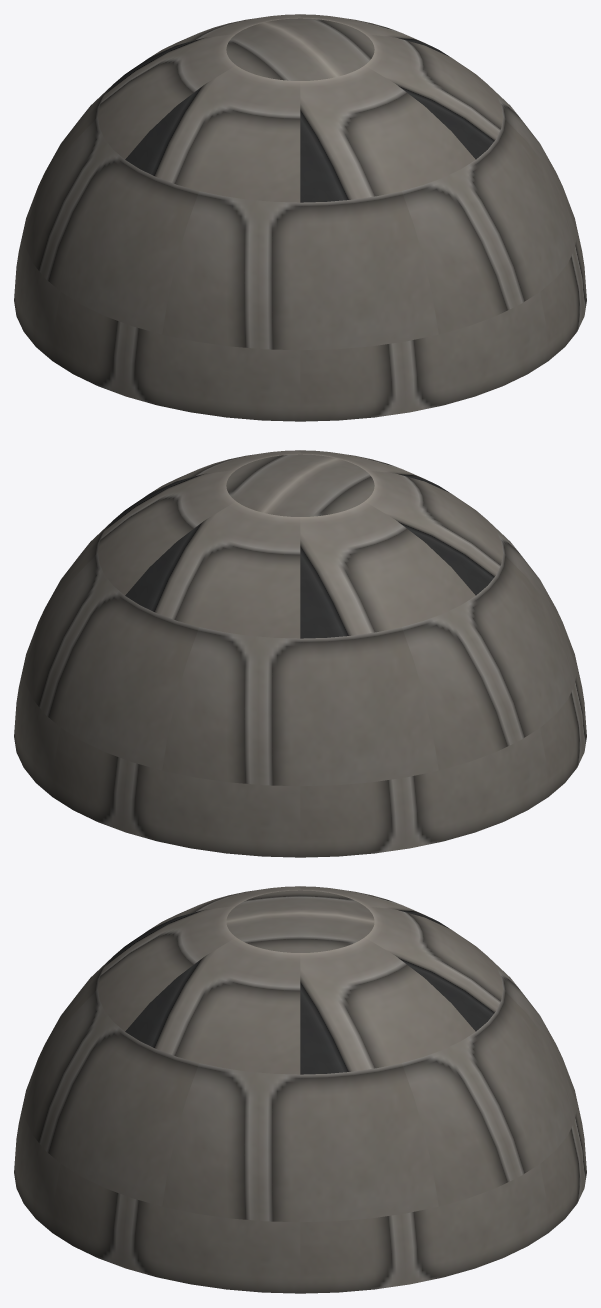
Rendered from rotanev_lv_cap_fuel_tank_s4_1.obj.
The picture shows the model from 3 angles, top to bottom: view 1: azimuth 30°, elevation 25°; view 2: azimuth 150°, elevation 25°; view 3: azimuth 270°, elevation 25°; orthographic projection.
Visible parts, largest first — view 1: 1; view 2: 1; view 3: 1.
Boxes of the visible parts, x1,y1,x2,y2 form: 1: (14,14,586,421); 1: (14,450,586,857); 1: (14,886,586,1293).
Bounding box in the file's own units: 5 × 2.5 × 5.
